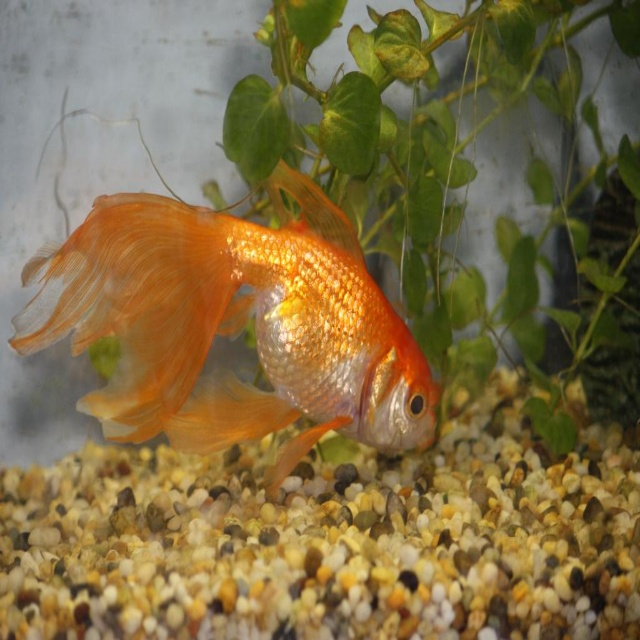Goldfish: (12, 168, 440, 497)
